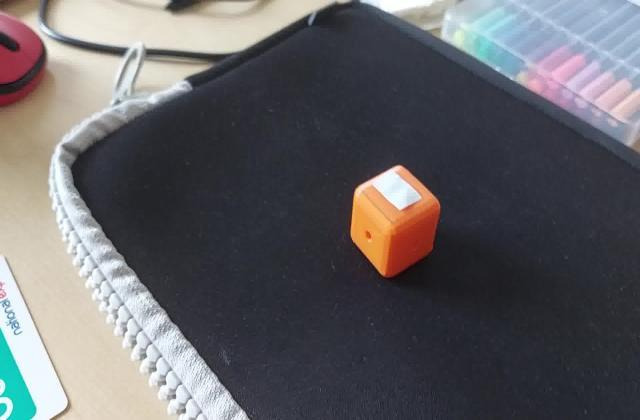sticker: (346, 164, 442, 281)
white: (376, 179, 424, 211)
